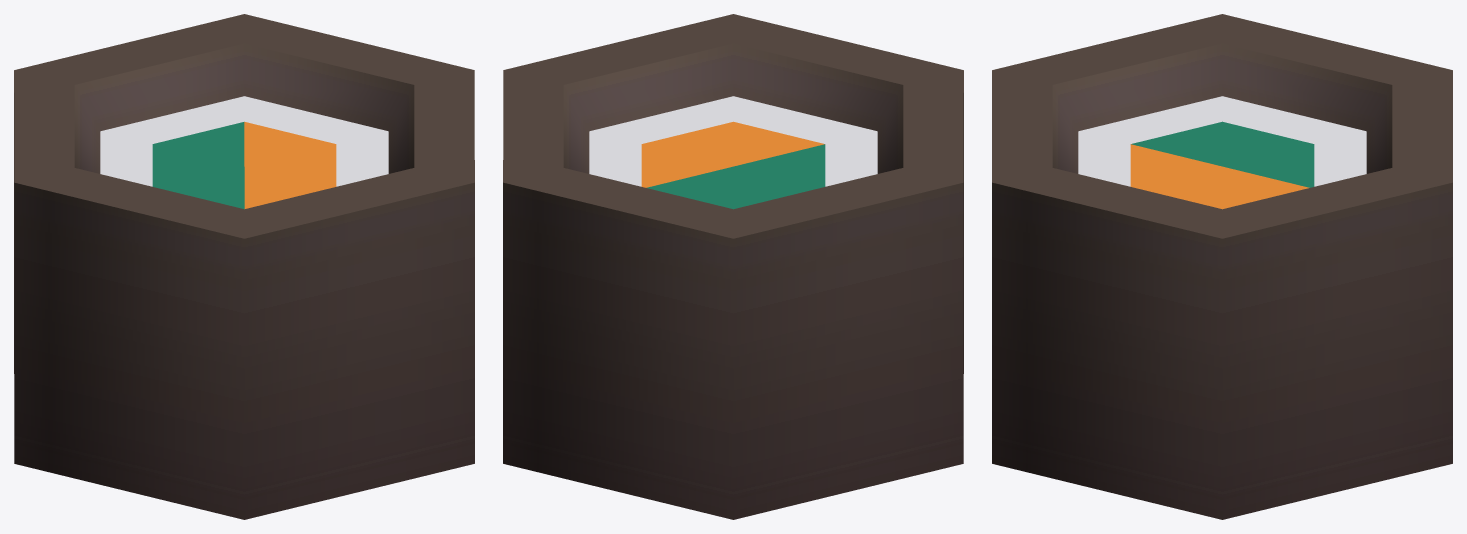
The model's file is maki-vegetable.glb.
3 views of the same model, side by side, from view 1: azimuth 30°, elevation 25°; view 2: azimuth 150°, elevation 25°; view 3: azimuth 270°, elevation 25° (orthographic).
Visible parts, largest first — view 1: maki-vegetable; view 2: maki-vegetable; view 3: maki-vegetable.
Part boxes in pixels (x1,y1,x2,y2): maki-vegetable: [14, 14, 474, 519]; maki-vegetable: [503, 14, 963, 519]; maki-vegetable: [992, 14, 1452, 519].
Size of the model in its own units: 0.12 by 0.07 by 0.1039.
Materials: 1 (1 with a texture image).
